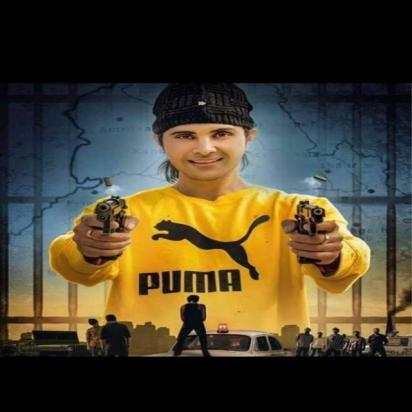Gun: (90, 194, 130, 262), (293, 199, 330, 266)
